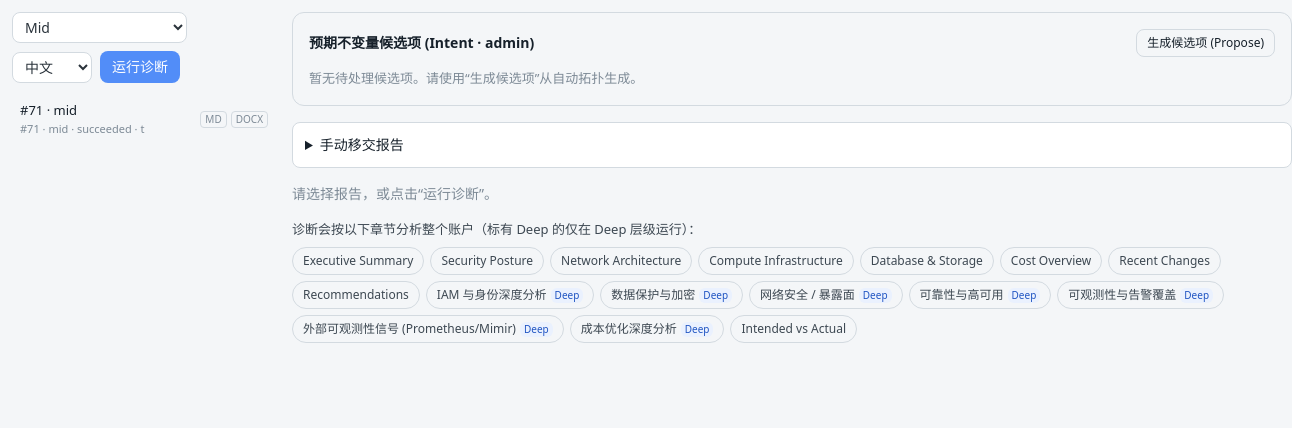
Test case: DiagnosisView — invariant assessment coverage › uses assessment-specific passed labels in zh
Click the button "#71 · mid #71 · mid · succeeded · t" at (104, 119), box top-left (12, 95), bottom-right (196, 143)
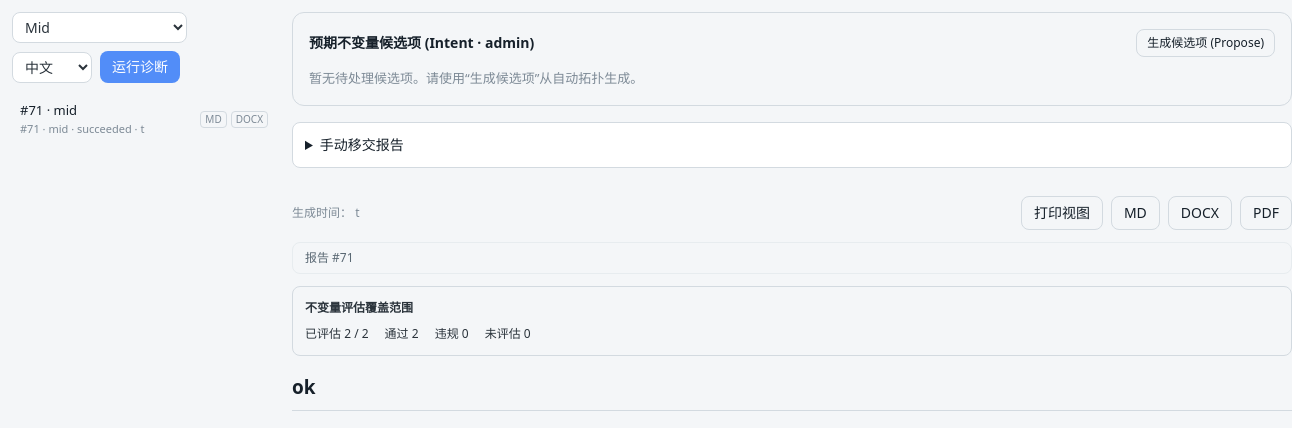
Expected: the text "通过 2" is shown, top-left (385, 324), bottom-right (419, 342)
